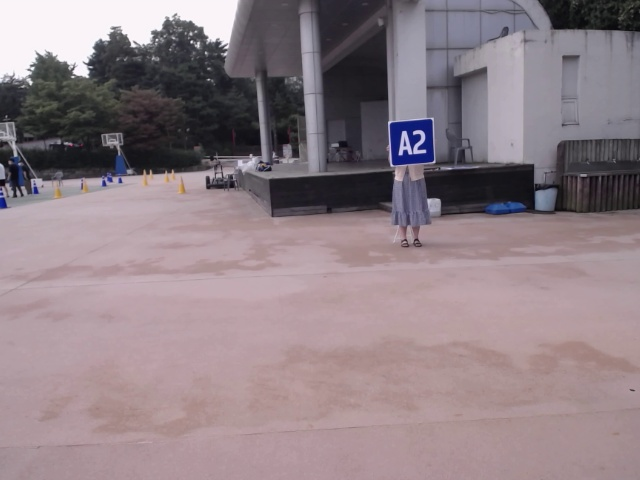delivery_a2: (389, 118, 435, 166)
